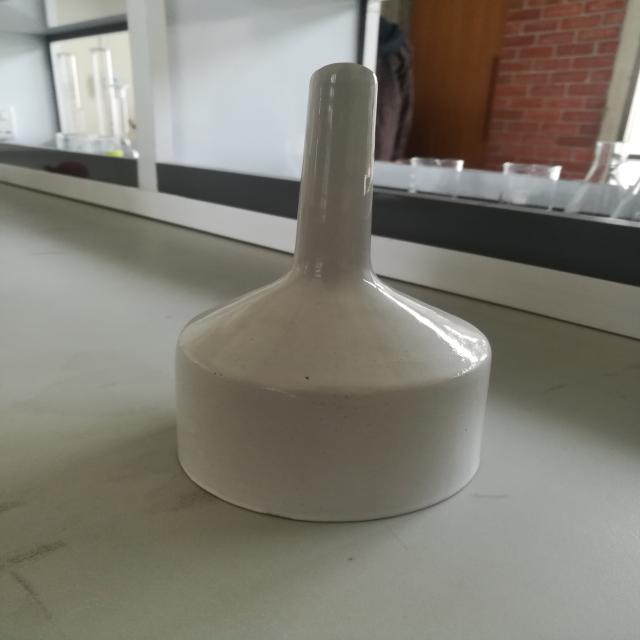Buchner_Funnel: (134, 34, 550, 549)
